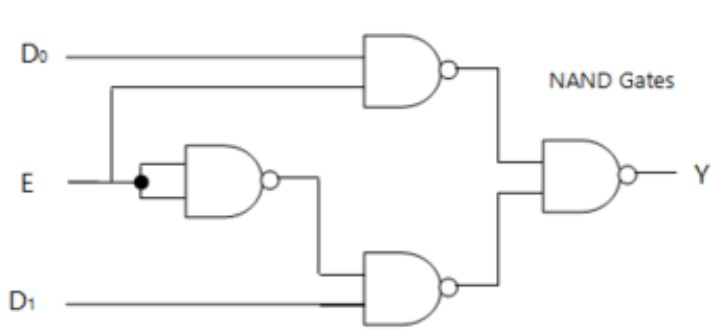nand gate: (538, 133, 644, 221), (182, 140, 288, 225), (358, 30, 460, 114), (359, 249, 463, 328)
